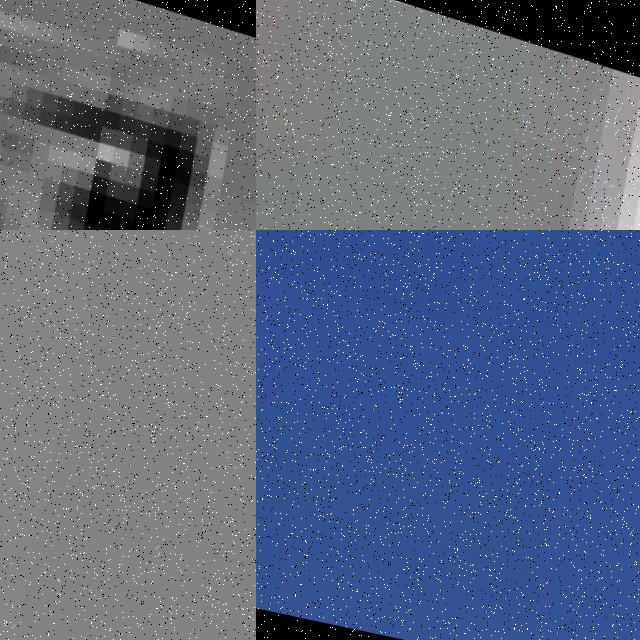drone: (256, 230, 640, 640), (256, 0, 640, 230), (0, 0, 256, 230)
